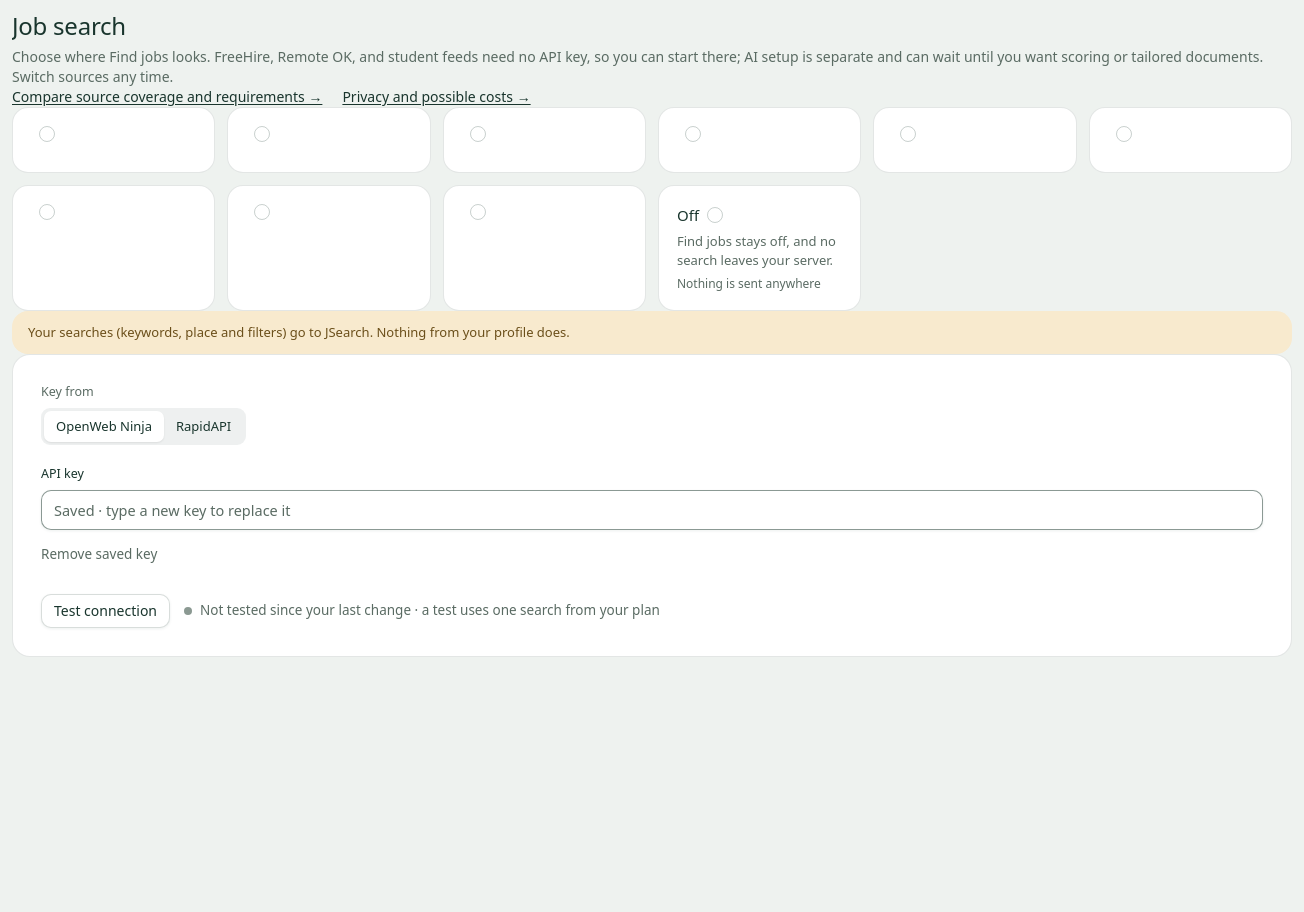
Test case: JobSearchSection › tests the connection and says how it went
Check: the message shows "a test uses one search from your plan", box [200,602,660,620]
Click the button "Test connection" at (106, 611), box [41,594,170,628]
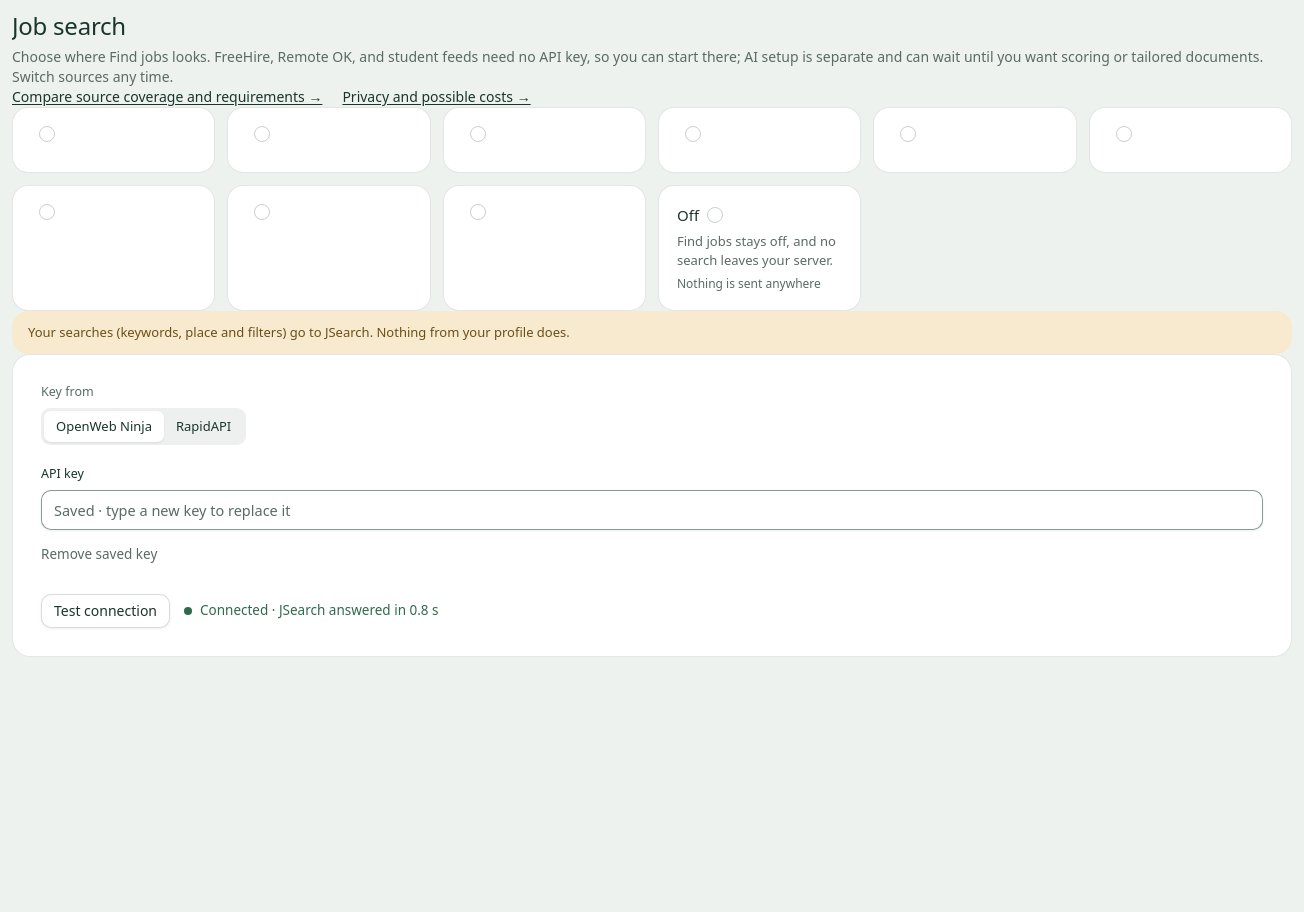
Check: the text "Connected · JSearch answered in 0.8 s" is shown, box [184,602,438,620]
Click the button "Test connection" at (106, 611), box [41,594,170,628]
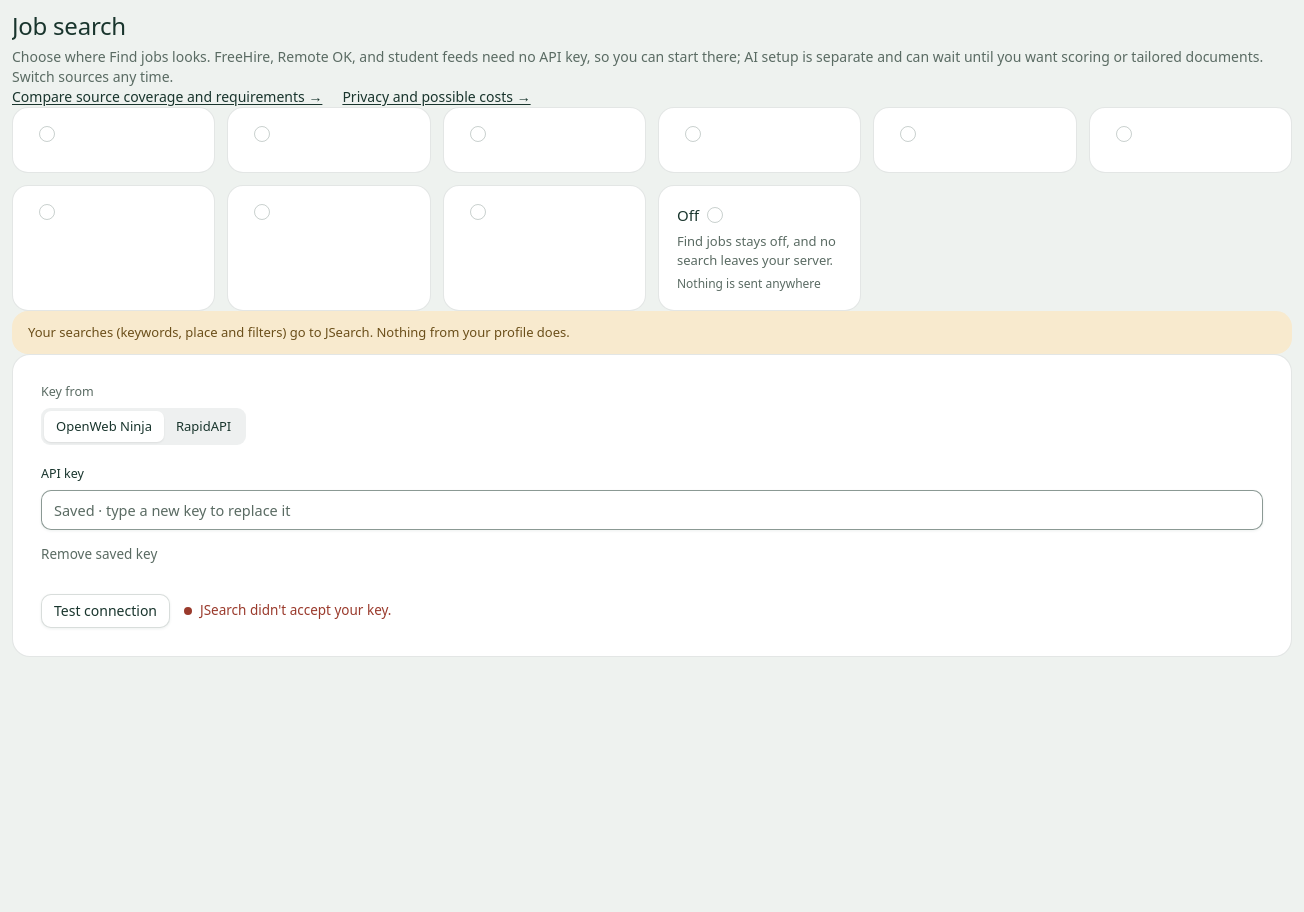
Check: the text "JSearch didn't accept your key." is shown, box [184,602,392,620]
Click the button "Test connection" at (106, 611), box [41,594,170,628]
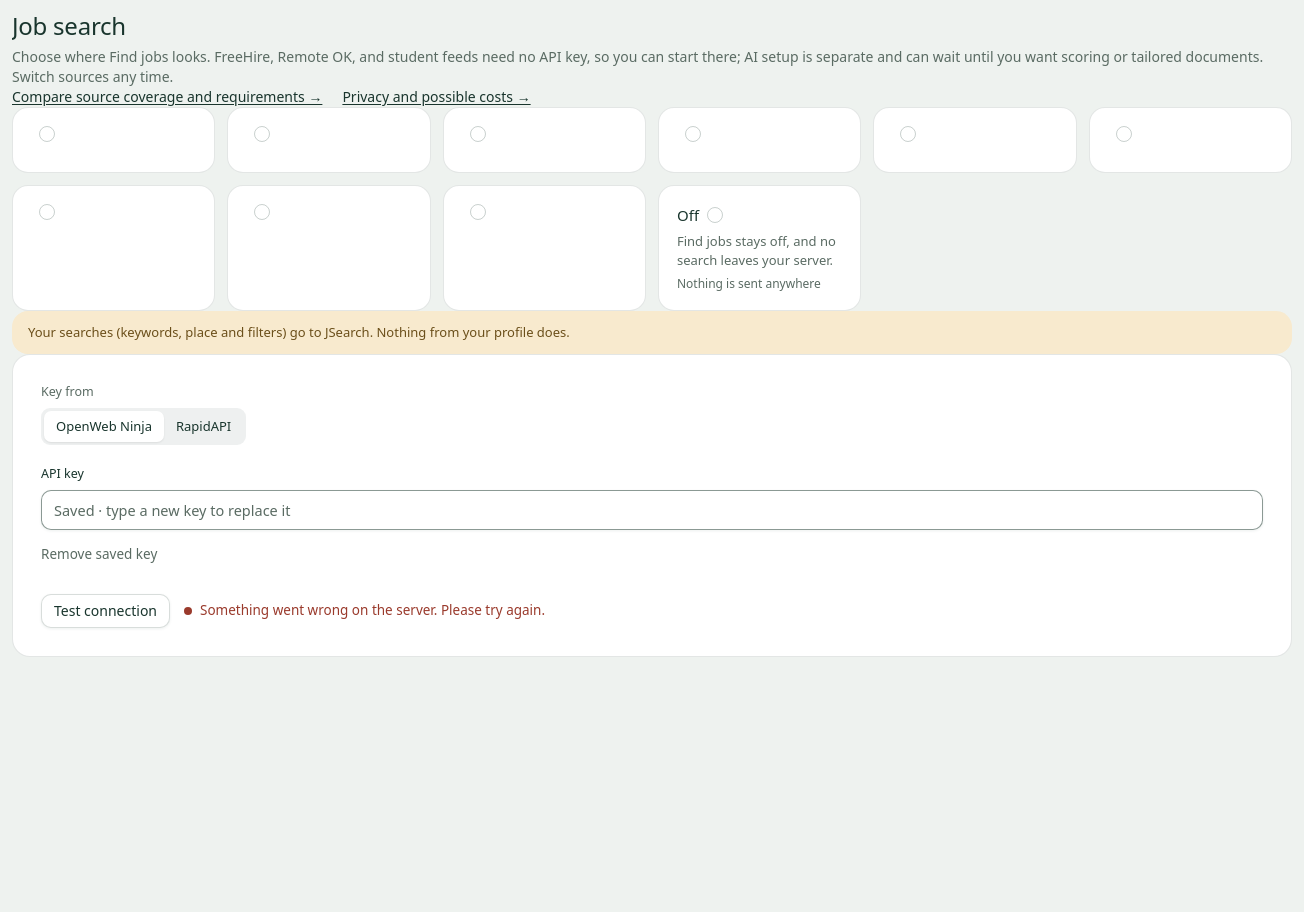
Check: the text "Something went wrong on the server. Please try again." is shown, box [184,602,545,620]
